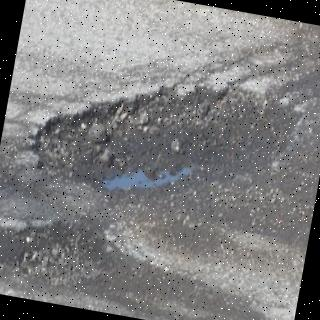pothole: (36, 90, 292, 202)
